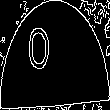O_S: (43, 28, 67, 82)
